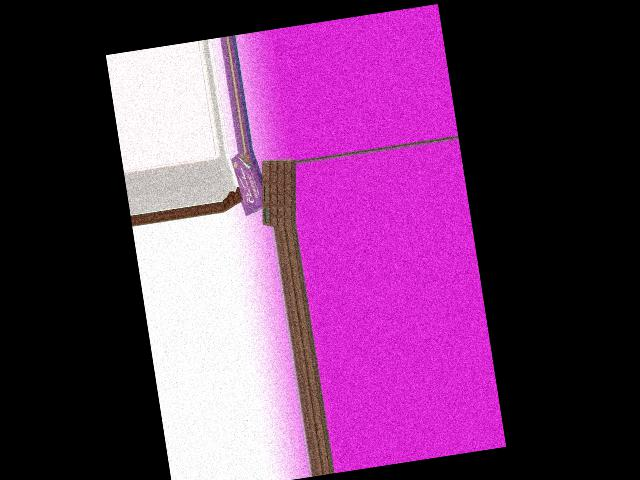chocolate: (252, 156, 304, 226)
